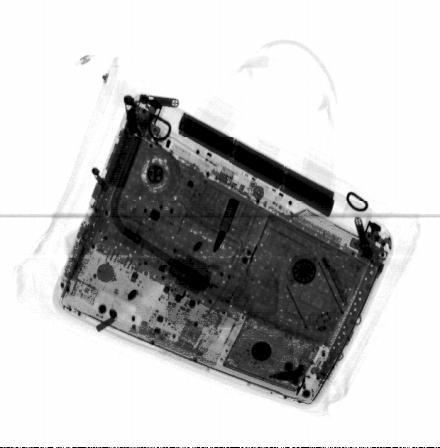Bullet: (213, 195, 240, 256)
